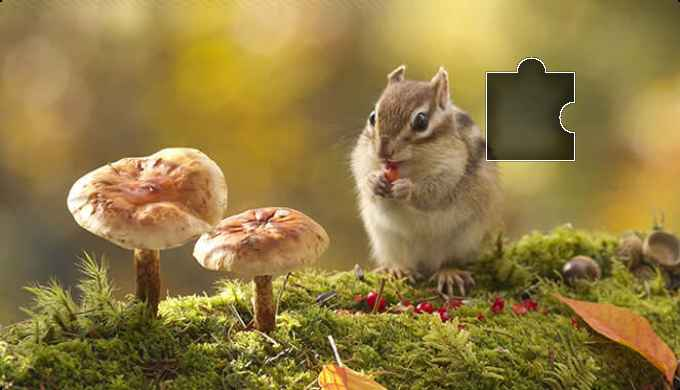gap: (488, 54, 575, 163)
